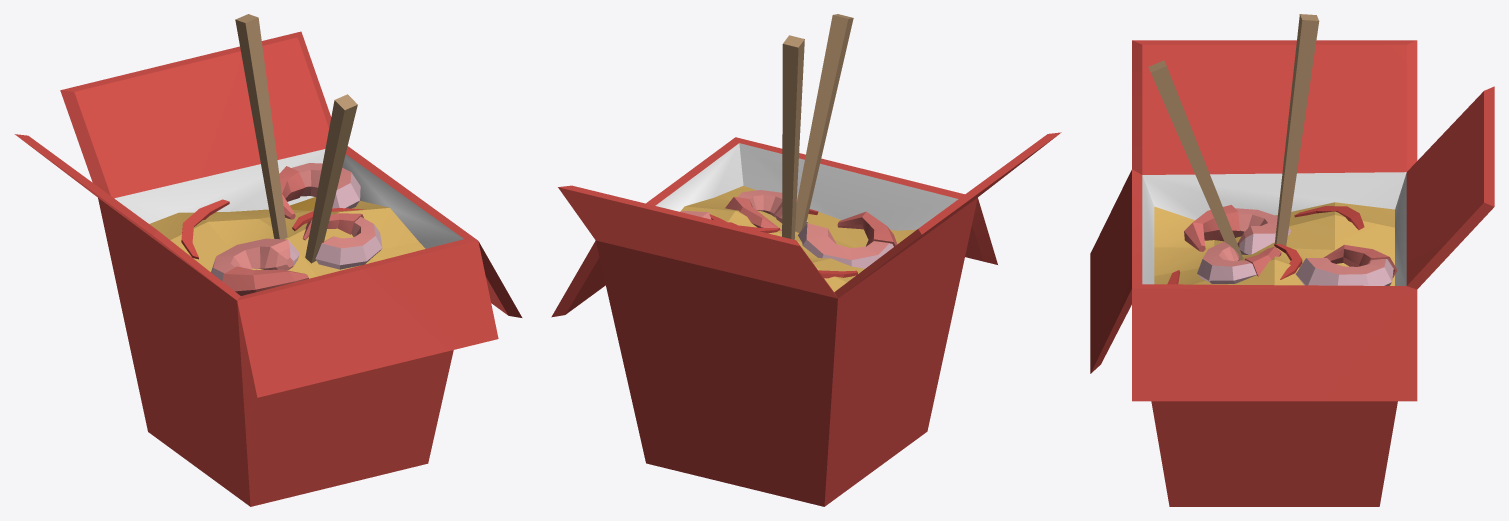
Rendered from Wok_01.fbx.
3 renders of one model, left to right at view 1: azimuth 30°, elevation 25°; view 2: azimuth 150°, elevation 25°; view 3: azimuth 270°, elevation 25°, orthographic. The views are drawn at different scales.
Visible parts, largest first — view 1: Wok_01; view 2: Wok_01; view 3: Wok_01.
Boxes of the visible parts, x1,y1,x2,y2 form: Wok_01: (14,14,522,506); Wok_01: (551,14,1061,506); Wok_01: (1090,14,1494,506).
Size of the model in its own units: 23.22 by 25.5 by 21.49.
